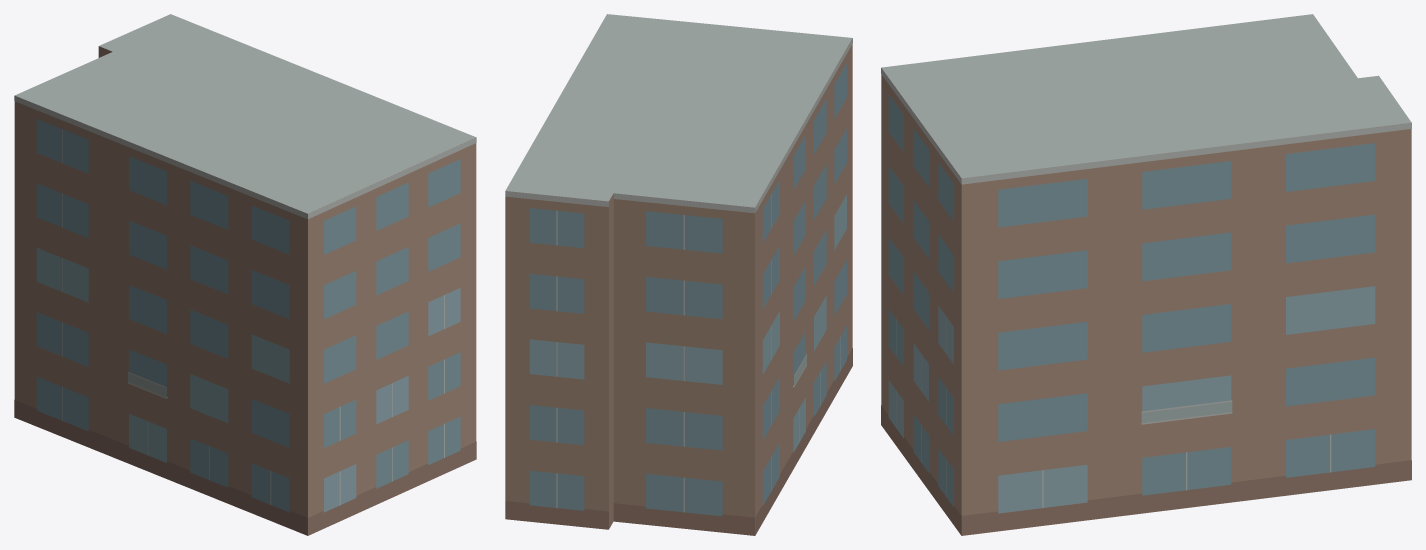
File: survey-upis-32628629.glb
3 renders of one model, left to right at view 1: azimuth 30°, elevation 25°; view 2: azimuth 150°, elevation 25°; view 3: azimuth 270°, elevation 25°, orthographic. The views are drawn at different scales.
Parts seen in each view (by area): view 1: survey-upis-32628629.tmp; view 2: survey-upis-32628629.tmp; view 3: survey-upis-32628629.tmp.
Part boxes in pixels (x1=…): survey-upis-32628629.tmp: x1=14, y1=14, x2=476, y2=535; survey-upis-32628629.tmp: x1=505, y1=14, x2=852, y2=535; survey-upis-32628629.tmp: x1=881, y1=14, x2=1411, y2=535.
Size of the model in its own units: 13.95 by 14.13 by 19.02.
